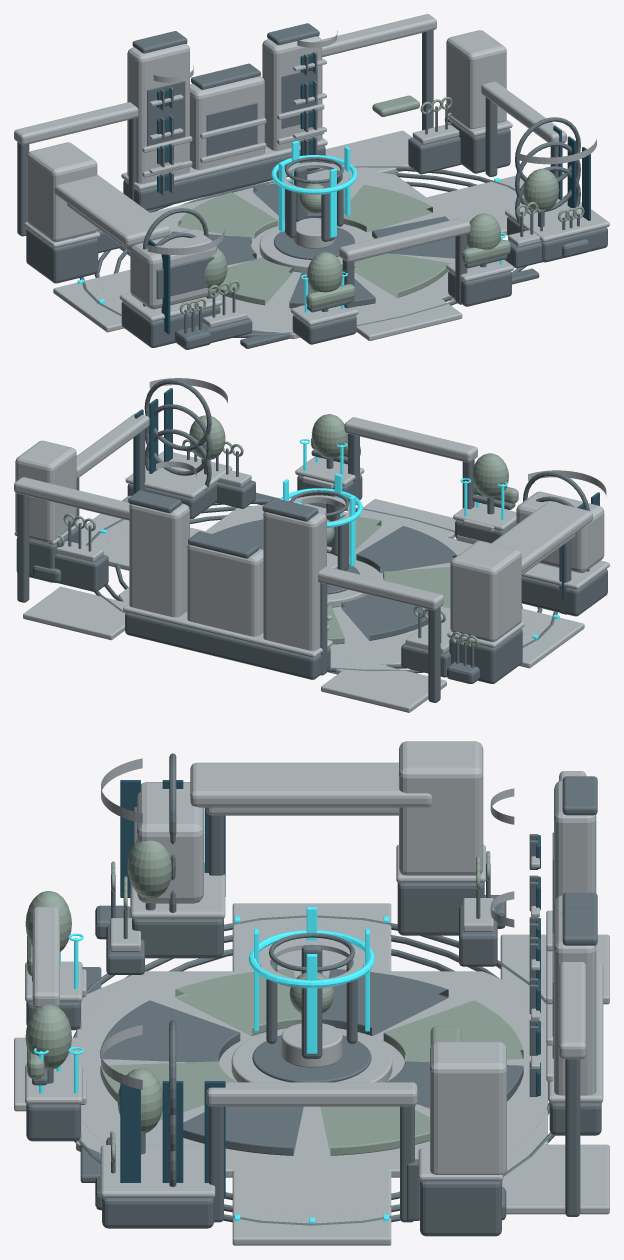
The model's file is command-center.glb.
The picture shows the model from 3 angles, top to bottom: view 1: azimuth 30°, elevation 25°; view 2: azimuth 150°, elevation 25°; view 3: azimuth 270°, elevation 25°; orthographic projection. The views are drawn at different scales.
Visible parts, largest first — view 1: cc_floor_primary_civic_plaza, cc_shell_client_civic_house, cc_shell_operations_house, cc_shell_civic_west, cc_shell_client_gate_canopy, cc_shell_civic_hall, cc_shell_archive_retaining, cc_shell_civic_east, cc_shell_client_civic_gallery, cc_terrace_plaza_sector_6, cc_terrace_plaza_sector_2, cc_floor_threshold_hobby (+71 smaller); view 2: cc_shell_civic_west, cc_shell_client_civic_house, cc_shell_civic_east, cc_shell_civic_hall, cc_floor_primary_civic_plaza, cc_shell_archive_retaining, cc_shell_operations_house, cc_floor_threshold_build, cc_floor_threshold_automation, cc_shell_client_gate_canopy, cc_terrace_plaza_sector_5, cc_terrace_plaza_sector_3 (+53 smaller); view 3: cc_floor_primary_civic_plaza, cc_floor_threshold_hobby, cc_shell_client_civic_house, cc_shell_operations_house, cc_shell_client_gate_canopy, cc_floor_threshold_client, cc_floor_threshold_automation, cc_shell_client_civic_gallery, cc_terrace_plaza_sector_5, cc_arch_hobby, cc_shell_operations_retaining, cc_terrace_plaza_sector_3 (+61 smaller).
Part boxes in pixels (x1=…): cc_floor_primary_civic_plaza: x1=119, y1=169, x2=467, y2=339; cc_shell_client_civic_house: x1=27, y1=142, x2=97, y2=241; cc_shell_operations_house: x1=446, y1=30, x2=506, y2=128; cc_shell_civic_west: x1=127, y1=44, x2=189, y2=183; cc_shell_client_gate_canopy: x1=54, y1=174, x2=170, y2=246; cc_shell_civic_hall: x1=190, y1=76, x2=264, y2=169; cc_shell_archive_retaining: x1=123, y1=145, x2=325, y2=210; cc_shell_civic_east: x1=262, y1=36, x2=321, y2=150; cc_shell_client_civic_gallery: x1=130, y1=229, x2=216, y2=309; cc_terrace_plaza_sector_6: x1=354, y1=253, x2=450, y2=297; cc_terrace_plaza_sector_2: x1=178, y1=192, x2=277, y2=238; cc_floor_threshold_hobby: x1=424, y1=175, x2=524, y2=235; cc_shell_civic_west: x1=263, y1=511, x2=326, y2=650; cc_shell_client_civic_house: x1=450, y1=540, x2=521, y2=641; cc_shell_civic_east: x1=129, y1=503, x2=189, y2=617; cc_shell_civic_hall: x1=187, y1=544, x2=263, y2=636; cc_floor_primary_civic_plaza: x1=118, y1=504, x2=472, y2=674; cc_shell_archive_retaining: x1=125, y1=612, x2=330, y2=679; cc_shell_operations_house: x1=15, y1=440, x2=76, y2=543; cc_floor_threshold_build: x1=321, y1=659, x2=446, y2=712; cc_floor_threshold_automation: x1=23, y1=586, x2=128, y2=640; cc_shell_client_gate_canopy: x1=492, y1=501, x2=592, y2=572; cc_terrace_plaza_sector_5: x1=356, y1=526, x2=457, y2=573; cc_terrace_plaza_sector_3: x1=341, y1=594, x2=428, y2=640; cc_floor_primary_civic_plaza: x1=76, y1=971, x2=547, y2=1177; cc_floor_threshold_hobby: x1=232, y1=1168, x2=391, y2=1245; cc_shell_client_civic_house: x1=399, y1=741, x2=483, y2=875; cc_shell_operations_house: x1=430, y1=1041, x2=506, y2=1176; cc_shell_client_gate_canopy: x1=190, y1=762, x2=432, y2=807; cc_floor_threshold_client: x1=232, y1=903, x2=391, y2=972; cc_floor_threshold_automation: x1=502, y1=1144, x2=609, y2=1214; cc_shell_client_civic_gallery: x1=137, y1=782, x2=203, y2=903; cc_terrace_plaza_sector_5: x1=100, y1=1000, x2=240, y2=1062; cc_arch_hobby: x1=206, y1=1082, x2=417, y2=1106; cc_shell_operations_retaining: x1=420, y1=1181, x2=501, y2=1236; cc_terrace_plaza_sector_3: x1=322, y1=969, x2=448, y2=1036.
Bounding box in the file's own units: 16.03 × 5.39 × 12.
